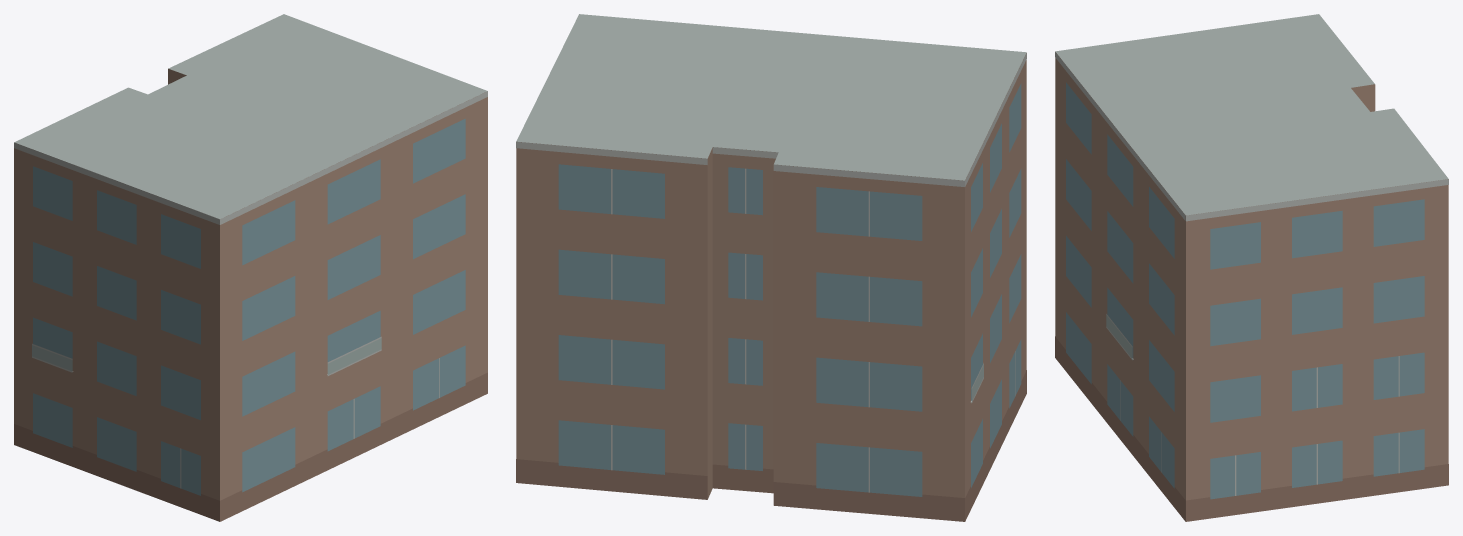
File: survey-upis-32738114.glb
3 renders of one model, left to right at view 1: azimuth 30°, elevation 25°; view 2: azimuth 150°, elevation 25°; view 3: azimuth 270°, elevation 25°, orthographic. The views are drawn at different scales.
Parts seen in each view (by area): view 1: survey-upis-32738114.tmp; view 2: survey-upis-32738114.tmp; view 3: survey-upis-32738114.tmp.
Boxes of the visible parts, x1,y1,x2,y2 form: survey-upis-32738114.tmp: (14,14,487,521); survey-upis-32738114.tmp: (516,14,1026,521); survey-upis-32738114.tmp: (1055,14,1448,521).
Bounding box in the file's own units: 17.93 × 12.7 × 14.8.
